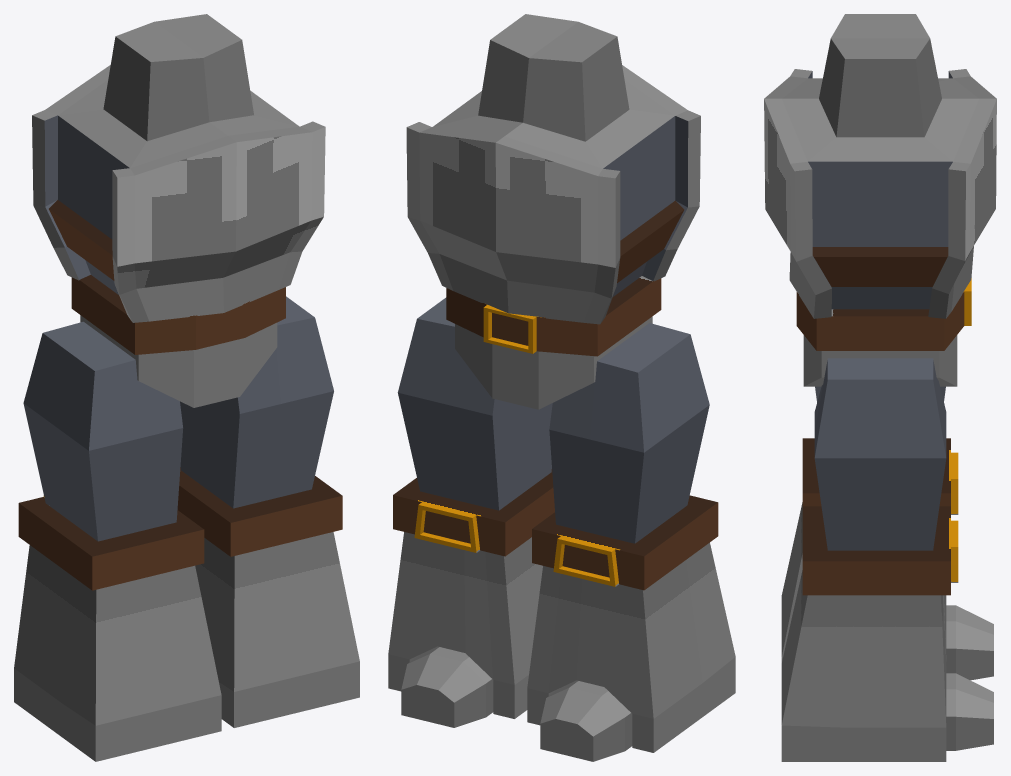
The model's file is SquireBody.obj.
3 renders of one model, left to right at view 1: azimuth 30°, elevation 25°; view 2: azimuth 150°, elevation 25°; view 3: azimuth 270°, elevation 25°, orthographic.
Visible parts, largest first — view 1: Shin, Body, Thigh, Pelvis; view 2: Body, Shin, Thigh, Pelvis, cylinder; view 3: Body, Shin, Thigh, Pelvis, cylinder.
Part boxes in pixels (bbox=[...]): Shin: bbox=[14, 467, 359, 761]; Body: bbox=[32, 14, 325, 322]; Thigh: bbox=[23, 296, 333, 541]; Pelvis: bbox=[71, 275, 285, 407]; Body: bbox=[406, 14, 700, 324]; Shin: bbox=[388, 469, 735, 752]; Thigh: bbox=[397, 297, 709, 543]; Pelvis: bbox=[446, 276, 661, 409]; cylinder: bbox=[401, 646, 632, 761]; Body: bbox=[764, 14, 996, 318]; Shin: bbox=[781, 438, 958, 761]; Thigh: bbox=[814, 358, 946, 550]; Pelvis: bbox=[796, 278, 971, 386]; cylinder: bbox=[946, 605, 993, 750].
Size of the model in its own units: 0.525 by 1.25 by 0.3979.
Materials: 1 (1 with a texture image).
